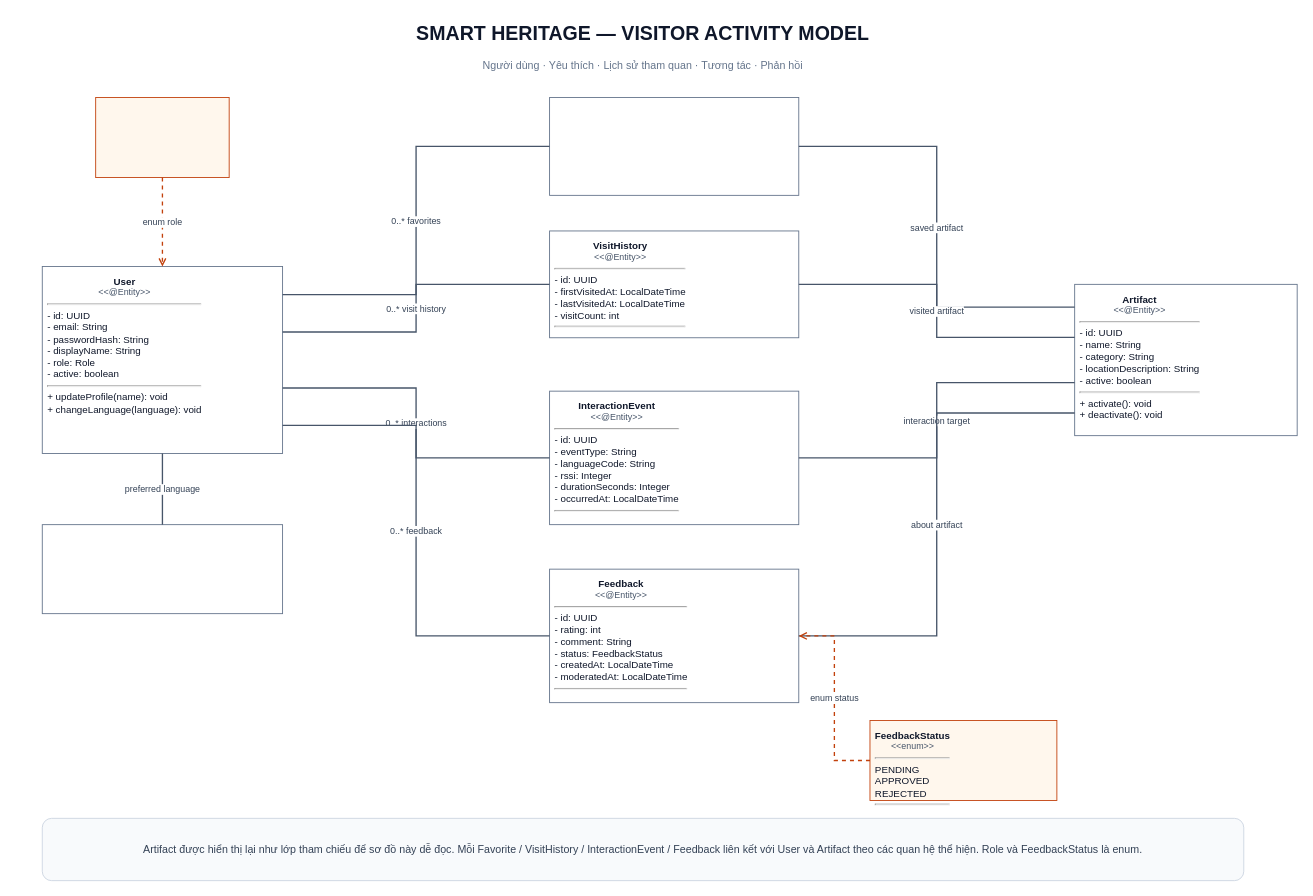
Some shapes in this 1313 by 896 pixel diagram are drawn without their labels. Here are the shapes that lost their labels. From the top down, the centre of each, then its label:
At (x=162, y=137): "Role <<enum>> VISITOR ADMIN".
At (x=674, y=146): "Favorite <<@Entity>> - id: UUID - createdAt: LocalDateTime".
At (x=162, y=569): "Language <<@Entity>> - code: String - name: String - enabled: boolean".
